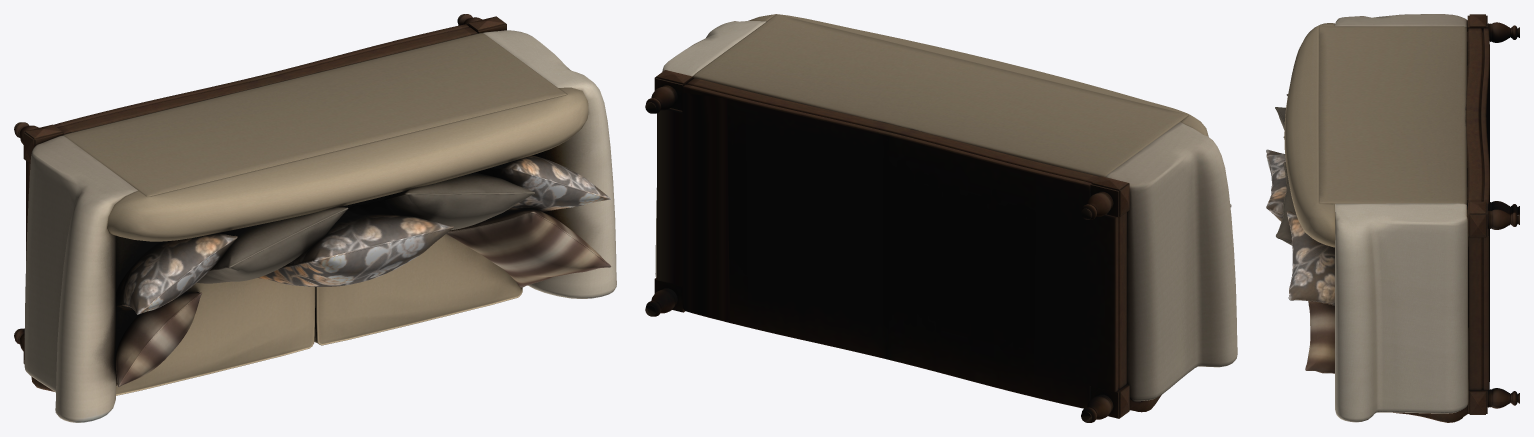
File: 10252_Traditional_Sofa_v1_L3.obj
3 renders of one model, left to right at view 1: azimuth 30°, elevation 25°; view 2: azimuth 150°, elevation 25°; view 3: azimuth 270°, elevation 25°, orthographic. The views are drawn at different scales.
Parts seen in each view (by area): view 1: 10252_Traditional_Sofa_v1_SG; view 2: 10252_Traditional_Sofa_v1_SG; view 3: 10252_Traditional_Sofa_v1_SG.
Part boxes in pixels (left/top/right/bottom): 10252_Traditional_Sofa_v1_SG: left=14, top=14, right=616, bottom=422; 10252_Traditional_Sofa_v1_SG: left=645, top=14, right=1237, bottom=422; 10252_Traditional_Sofa_v1_SG: left=1266, top=14, right=1519, bottom=422.
Size of the model in its own units: 227 by 93.67 by 104.
1 material, 1 textured.
